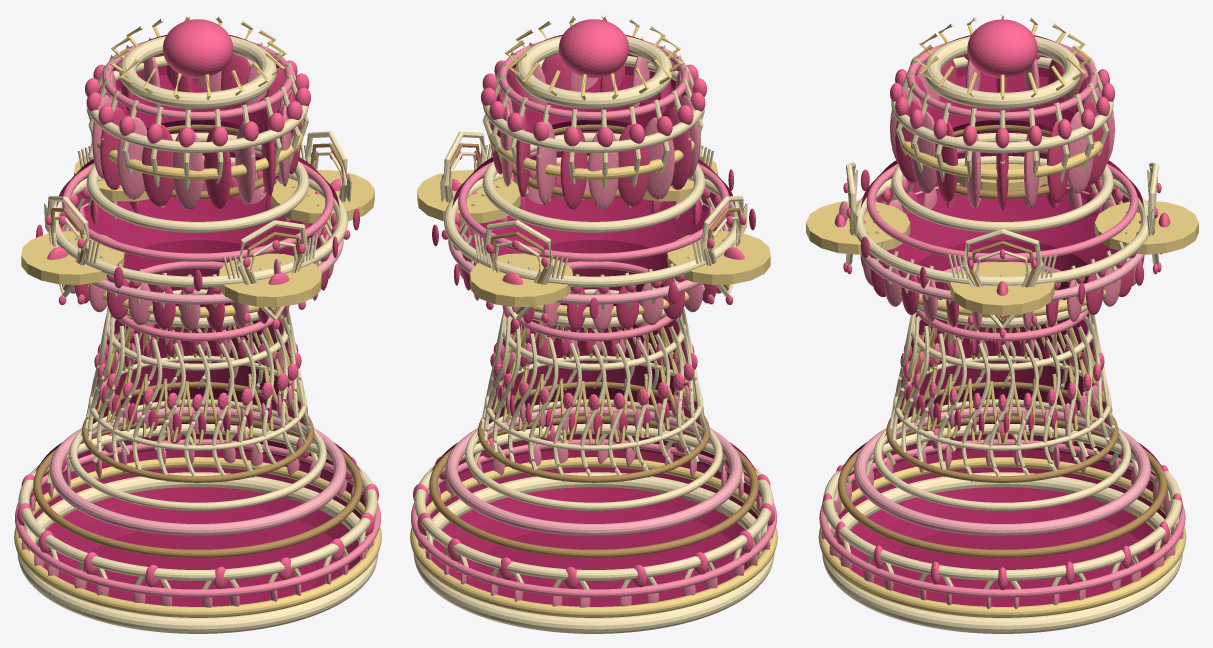
File: Royal_Red_Token.glb
3 renders of one model, left to right at view 1: azimuth 30°, elevation 25°; view 2: azimuth 150°, elevation 25°; view 3: azimuth 270°, elevation 25°, orthographic.
Visible parts, largest first — view 1: red_jewel_material_1, red_jewel_material_0, red_jewel_material_3, red_jewel_material_2, red_jewel_material_7, red_jewel_material_6, red_jewel_material_4, red_jewel_material_5; view 2: red_jewel_material_1, red_jewel_material_0, red_jewel_material_2, red_jewel_material_3, red_jewel_material_7, red_jewel_material_6, red_jewel_material_4, red_jewel_material_5; view 3: red_jewel_material_1, red_jewel_material_0, red_jewel_material_2, red_jewel_material_3, red_jewel_material_7, red_jewel_material_6, red_jewel_material_4, red_jewel_material_5.
Part boxes in pixels (x1,y1,x2,y2): red_jewel_material_1: [17, 36, 378, 633]; red_jewel_material_0: [29, 35, 365, 606]; red_jewel_material_3: [15, 41, 380, 607]; red_jewel_material_2: [14, 16, 381, 617]; red_jewel_material_7: [17, 19, 378, 588]; red_jewel_material_6: [36, 54, 359, 434]; red_jewel_material_4: [33, 124, 362, 557]; red_jewel_material_5: [49, 187, 346, 536]; red_jewel_material_1: [413, 36, 774, 633]; red_jewel_material_0: [426, 34, 762, 606]; red_jewel_material_2: [410, 15, 777, 617]; red_jewel_material_3: [411, 41, 776, 607]; red_jewel_material_7: [413, 19, 774, 588]; red_jewel_material_6: [432, 54, 755, 434]; red_jewel_material_4: [429, 124, 758, 557]; red_jewel_material_5: [445, 187, 742, 536]; red_jewel_material_1: [822, 36, 1182, 633]; red_jewel_material_0: [838, 35, 1166, 606]; red_jewel_material_2: [806, 15, 1198, 617]; red_jewel_material_3: [819, 43, 1185, 608]; red_jewel_material_7: [822, 19, 1182, 590]; red_jewel_material_6: [860, 59, 1144, 433]; red_jewel_material_4: [837, 125, 1167, 557]; red_jewel_material_5: [854, 183, 1150, 536].
Bounding box in the file's own units: 0.558 × 0.865 × 0.558.
